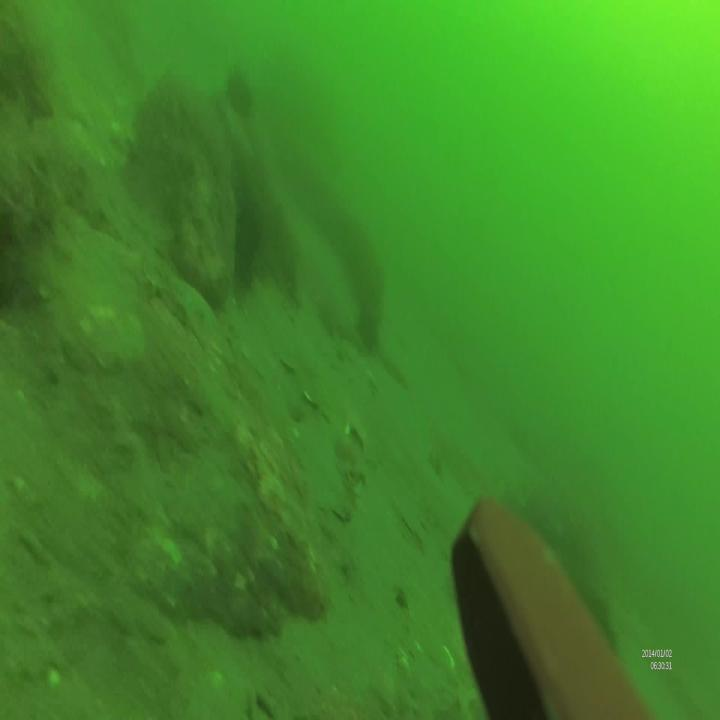echinus: (227, 67, 255, 123)
